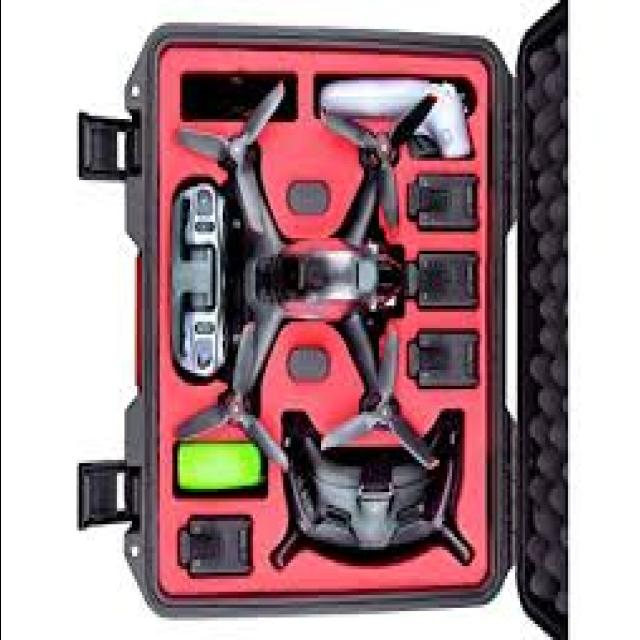drone: (174, 94, 452, 478)
